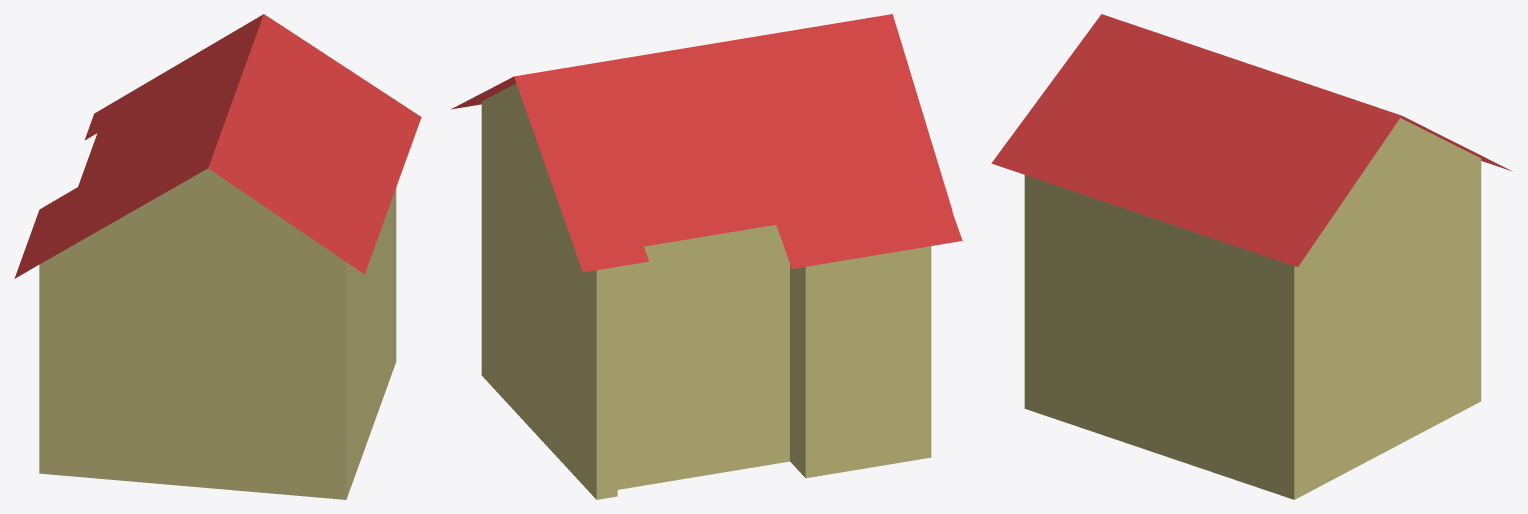
The picture shows the model from 3 angles, left to right: view 1: azimuth 30°, elevation 25°; view 2: azimuth 150°, elevation 25°; view 3: azimuth 270°, elevation 25°; orthographic projection. The views are drawn at different scales.
Bounding box in the file's own units: 17.12 × 17.04 × 12.35.
